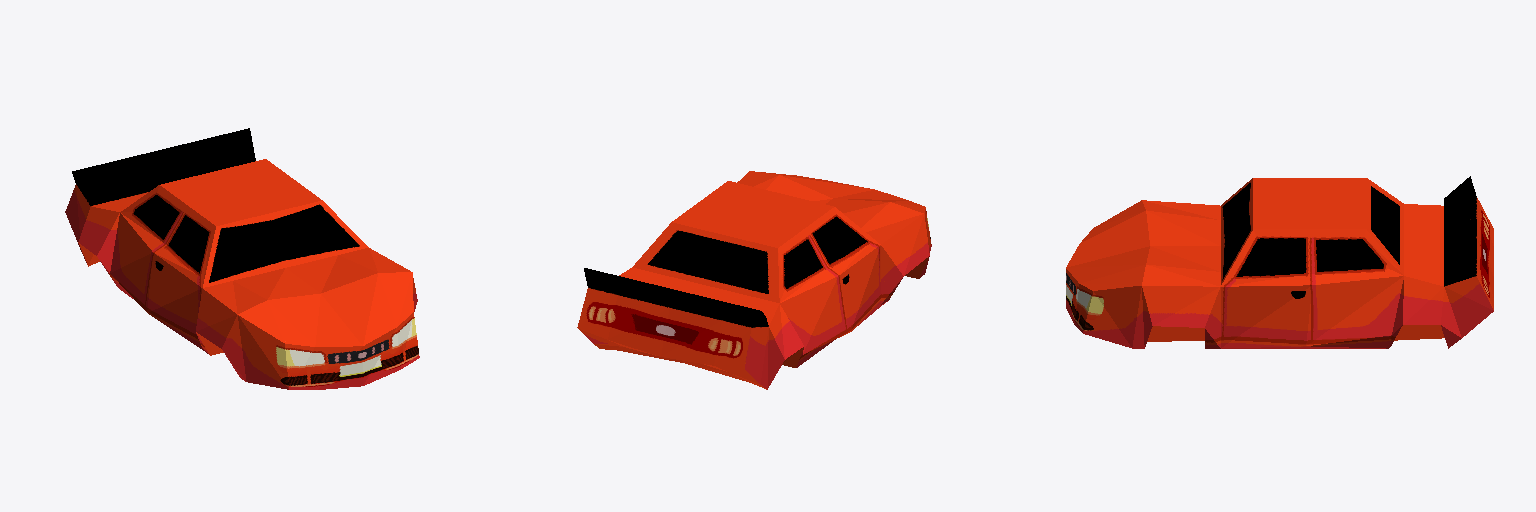
3 renders of one model, left to right at view 1: azimuth 30°, elevation 25°; view 2: azimuth 150°, elevation 25°; view 3: azimuth 270°, elevation 25°, orthographic.
Visible parts, largest first — view 1: Cube_Cube.002; view 2: Cube_Cube.002; view 3: Cube_Cube.002.
Boxes of the visible parts, <box> form: Cube_Cube.002: <box>65,128,419,389</box>; Cube_Cube.002: <box>577,171,931,389</box>; Cube_Cube.002: <box>1066,176,1493,348</box>.
Size of the model in its own units: 3.73 by 1.91 by 7.05.
1 materials, 1 textured.